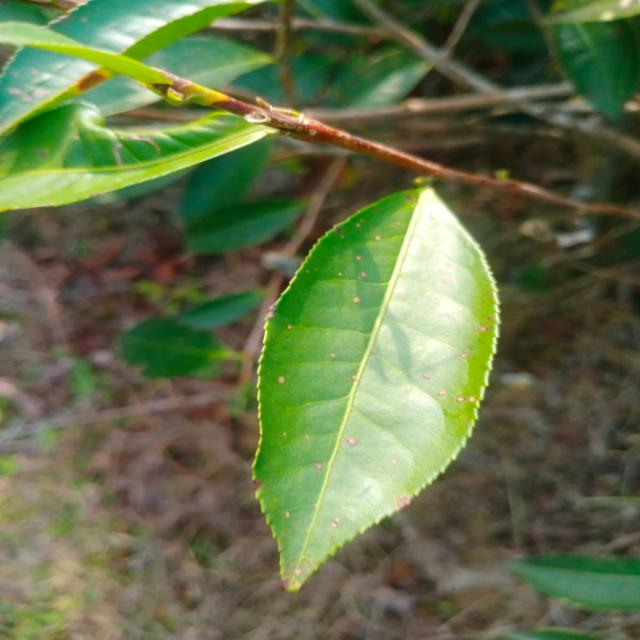Category D 7+ days, Not for Tea: (220, 176, 531, 609)
